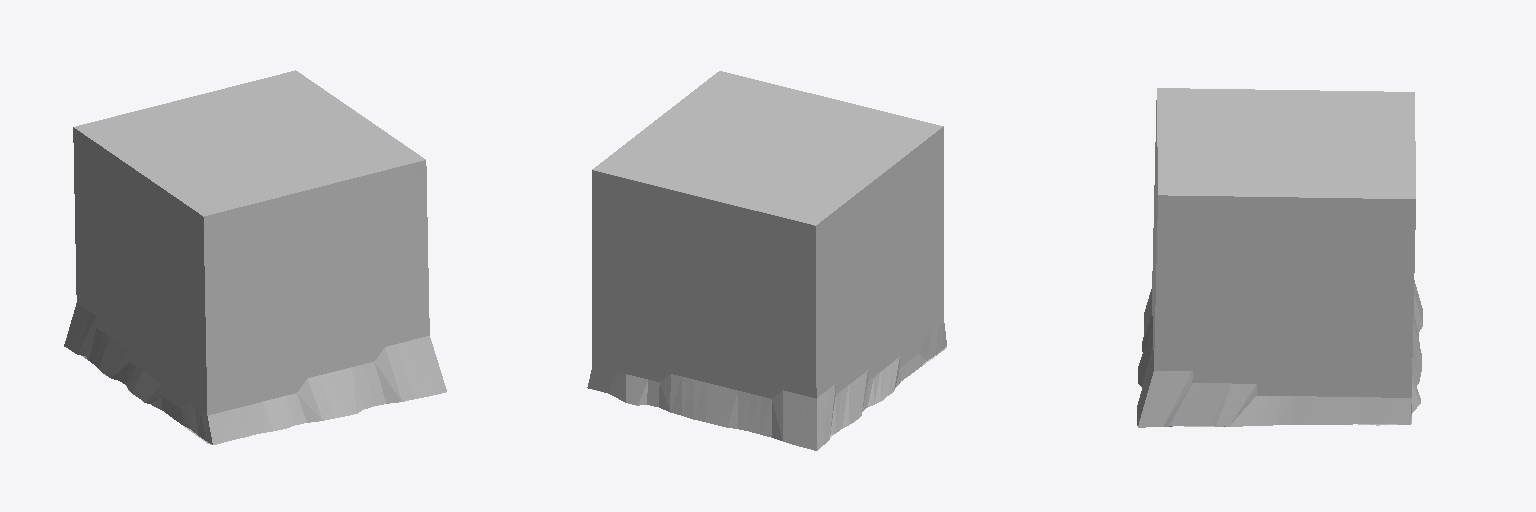
Rendered from mod0081.obj.
The picture shows the model from 3 angles: view 1: azimuth 30°, elevation 25°; view 2: azimuth 150°, elevation 25°; view 3: azimuth 270°, elevation 25°; orthographic projection.
Parts seen in each view (by area): view 1: Box001; view 2: Box001; view 3: Box001.
Boxes of the visible parts, x1,y1,x2,y2 form: Box001: [64, 70, 446, 444]; Box001: [587, 71, 946, 450]; Box001: [1137, 88, 1422, 427].
Size of the model in its own units: 0.5799 by 0.5244 by 0.5979.